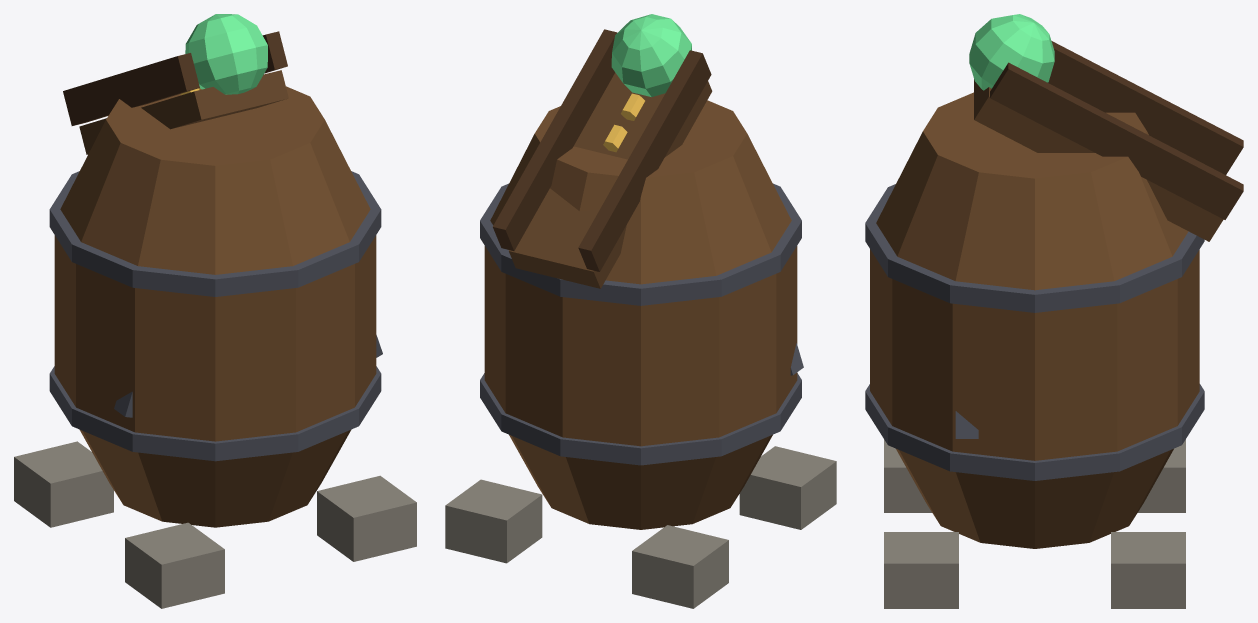
File: tower_bounce_l2.glb
3 renders of one model, left to right at view 1: azimuth 30°, elevation 25°; view 2: azimuth 150°, elevation 25°; view 3: azimuth 270°, elevation 25°, orthographic. The views are drawn at different scales.
Visible parts, largest first — view 1: Body, Turret; view 2: Body, Turret; view 3: Body, Turret.
Part boxes in pixels (left/top/right/bottom): Body: left=14, top=86, right=416, bottom=608; Turret: left=63, top=14, right=288, bottom=154; Body: left=445, top=100, right=836, bottom=608; Turret: left=493, top=14, right=712, bottom=288; Body: left=865, top=92, right=1204, bottom=608; Turret: left=969, top=14, right=1243, bottom=241.
Size of the model in its own units: 0.4759 by 0.8153 by 0.5306.
